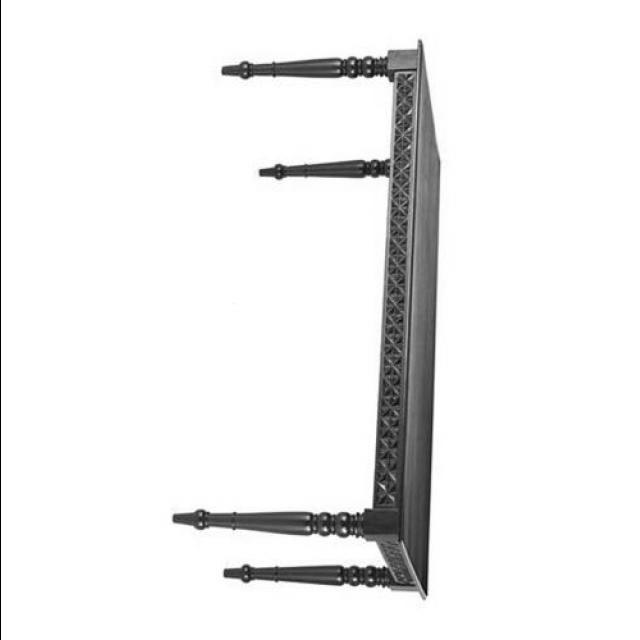table: (172, 40, 442, 602)
